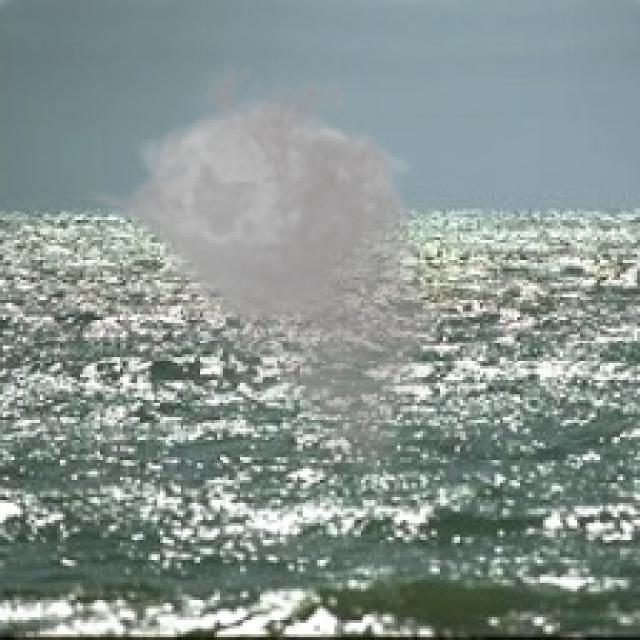Smoke: (77, 52, 452, 477)
